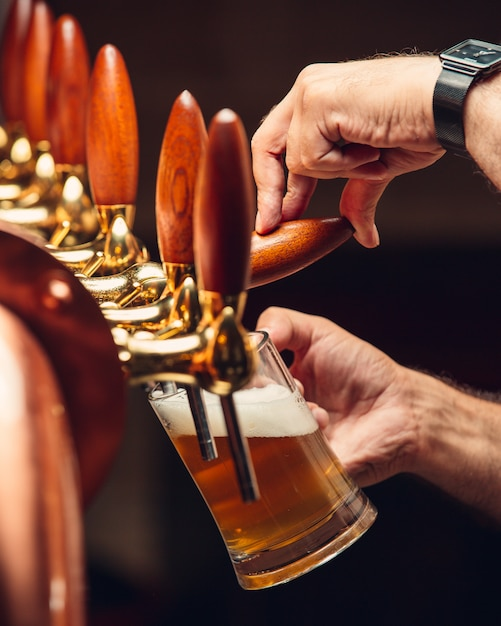alcohol: (142, 329, 384, 592)
